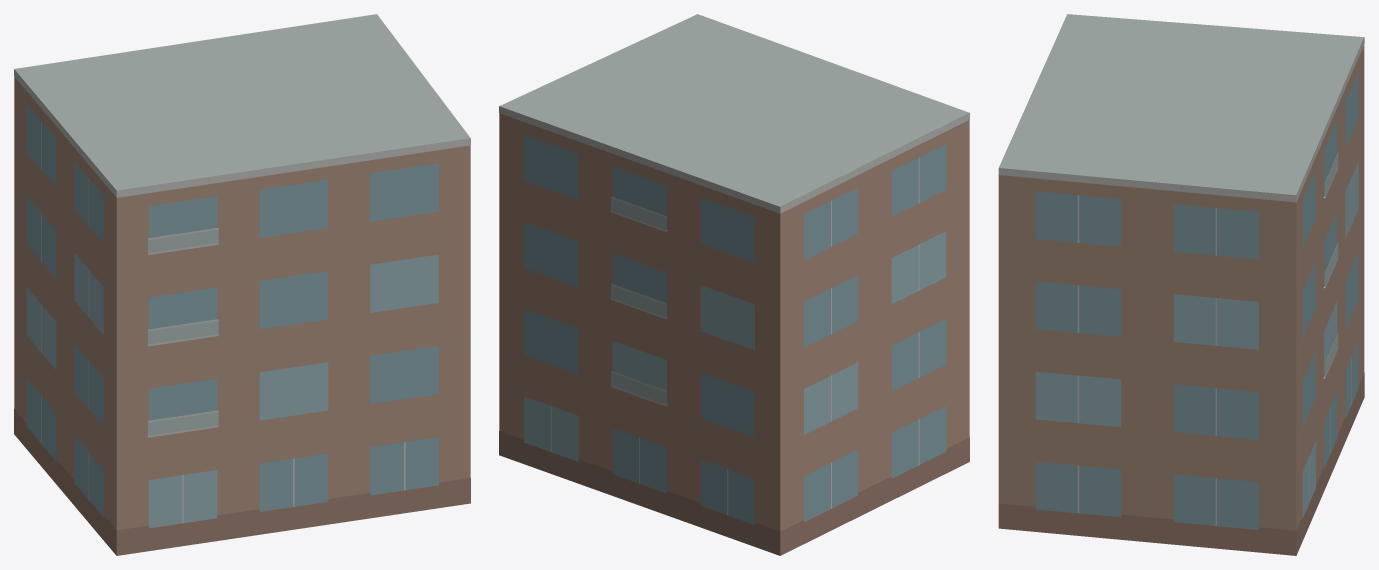
File: survey-upis-32987783.glb
The picture shows the model from 3 angles, left to right: view 1: azimuth 30°, elevation 25°; view 2: azimuth 150°, elevation 25°; view 3: azimuth 270°, elevation 25°; orthographic projection. The views are drawn at different scales.
Parts seen in each view (by area): view 1: survey-upis-32987783.tmp; view 2: survey-upis-32987783.tmp; view 3: survey-upis-32987783.tmp.
Boxes of the visible parts, box(x1,y1,x2,y2) form: survey-upis-32987783.tmp: box(14, 14, 470, 555); survey-upis-32987783.tmp: box(499, 14, 969, 555); survey-upis-32987783.tmp: box(998, 14, 1364, 555).
Size of the model in its own units: 13.38 by 12.4 by 11.41.
